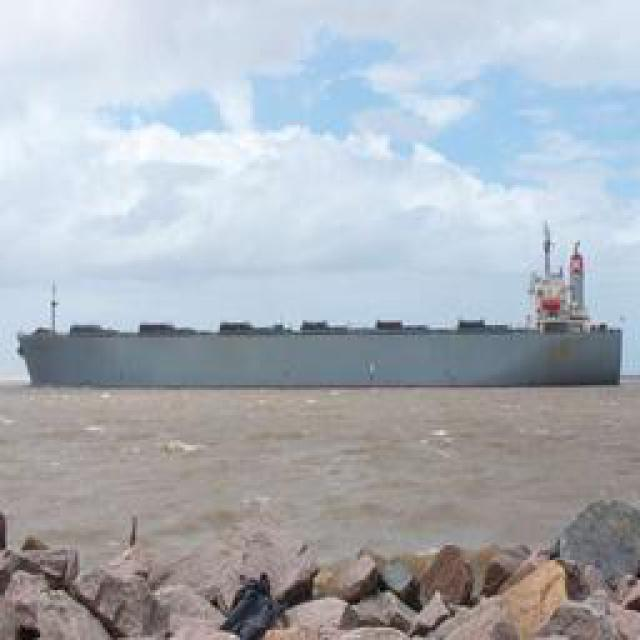Ship: (16, 286, 624, 391)
